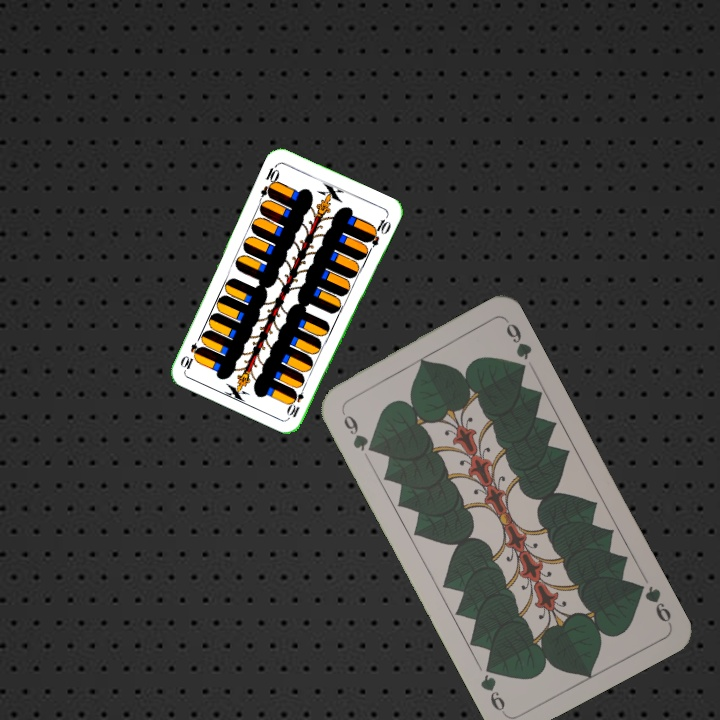E10: (256, 161, 282, 200), (284, 380, 308, 420)
G9: (630, 578, 674, 627), (337, 405, 378, 456)
